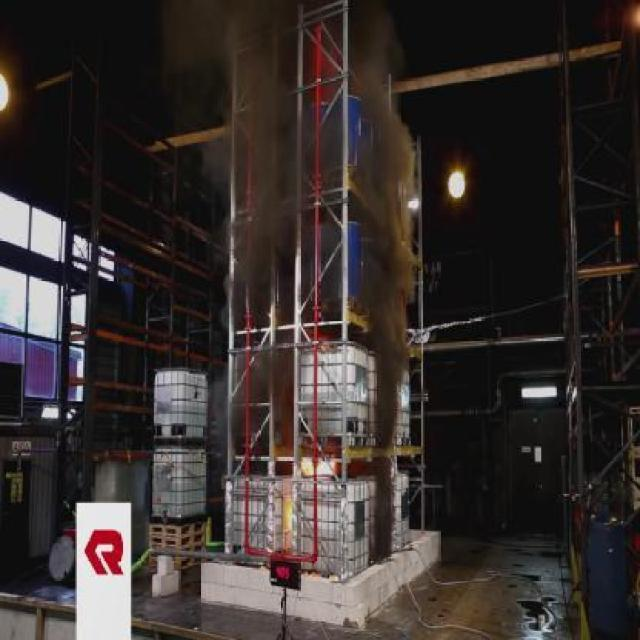fire: (147, 0, 296, 245), (366, 1, 424, 457)
